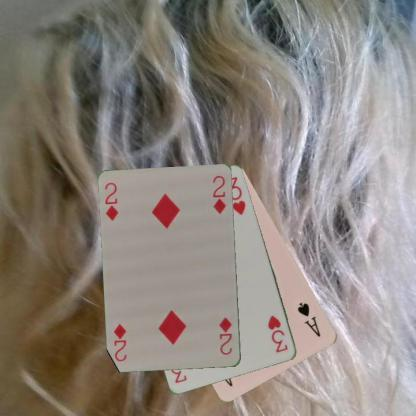2d: (102, 180, 120, 223), (216, 315, 233, 356)
3h: (265, 313, 290, 354)
As: (296, 300, 323, 338)
